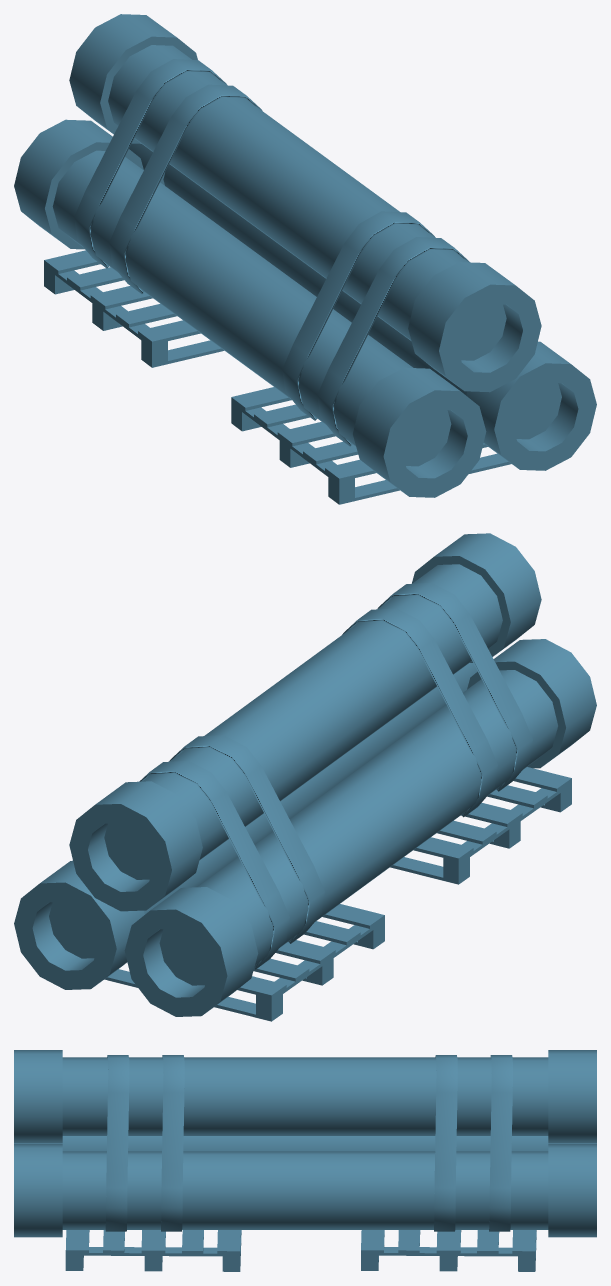
Rendered from GJ_Decor_PipePile.fbx.
3 renders of one model, top to bottom at view 1: azimuth 30°, elevation 25°; view 2: azimuth 150°, elevation 25°; view 3: azimuth 270°, elevation 25°, orthographic. The views are drawn at different scales.
Visible parts, largest first — view 1: GJ_Decor_PipePile; view 2: GJ_Decor_PipePile; view 3: GJ_Decor_PipePile.
Part boxes in pixels (box(x1,y1,x2,y2)): GJ_Decor_PipePile: box(14, 14, 596, 504); GJ_Decor_PipePile: box(14, 533, 596, 1021); GJ_Decor_PipePile: box(14, 1050, 596, 1271).
Bounding box in the file's own units: 10.88 × 9.55 × 29.45.
